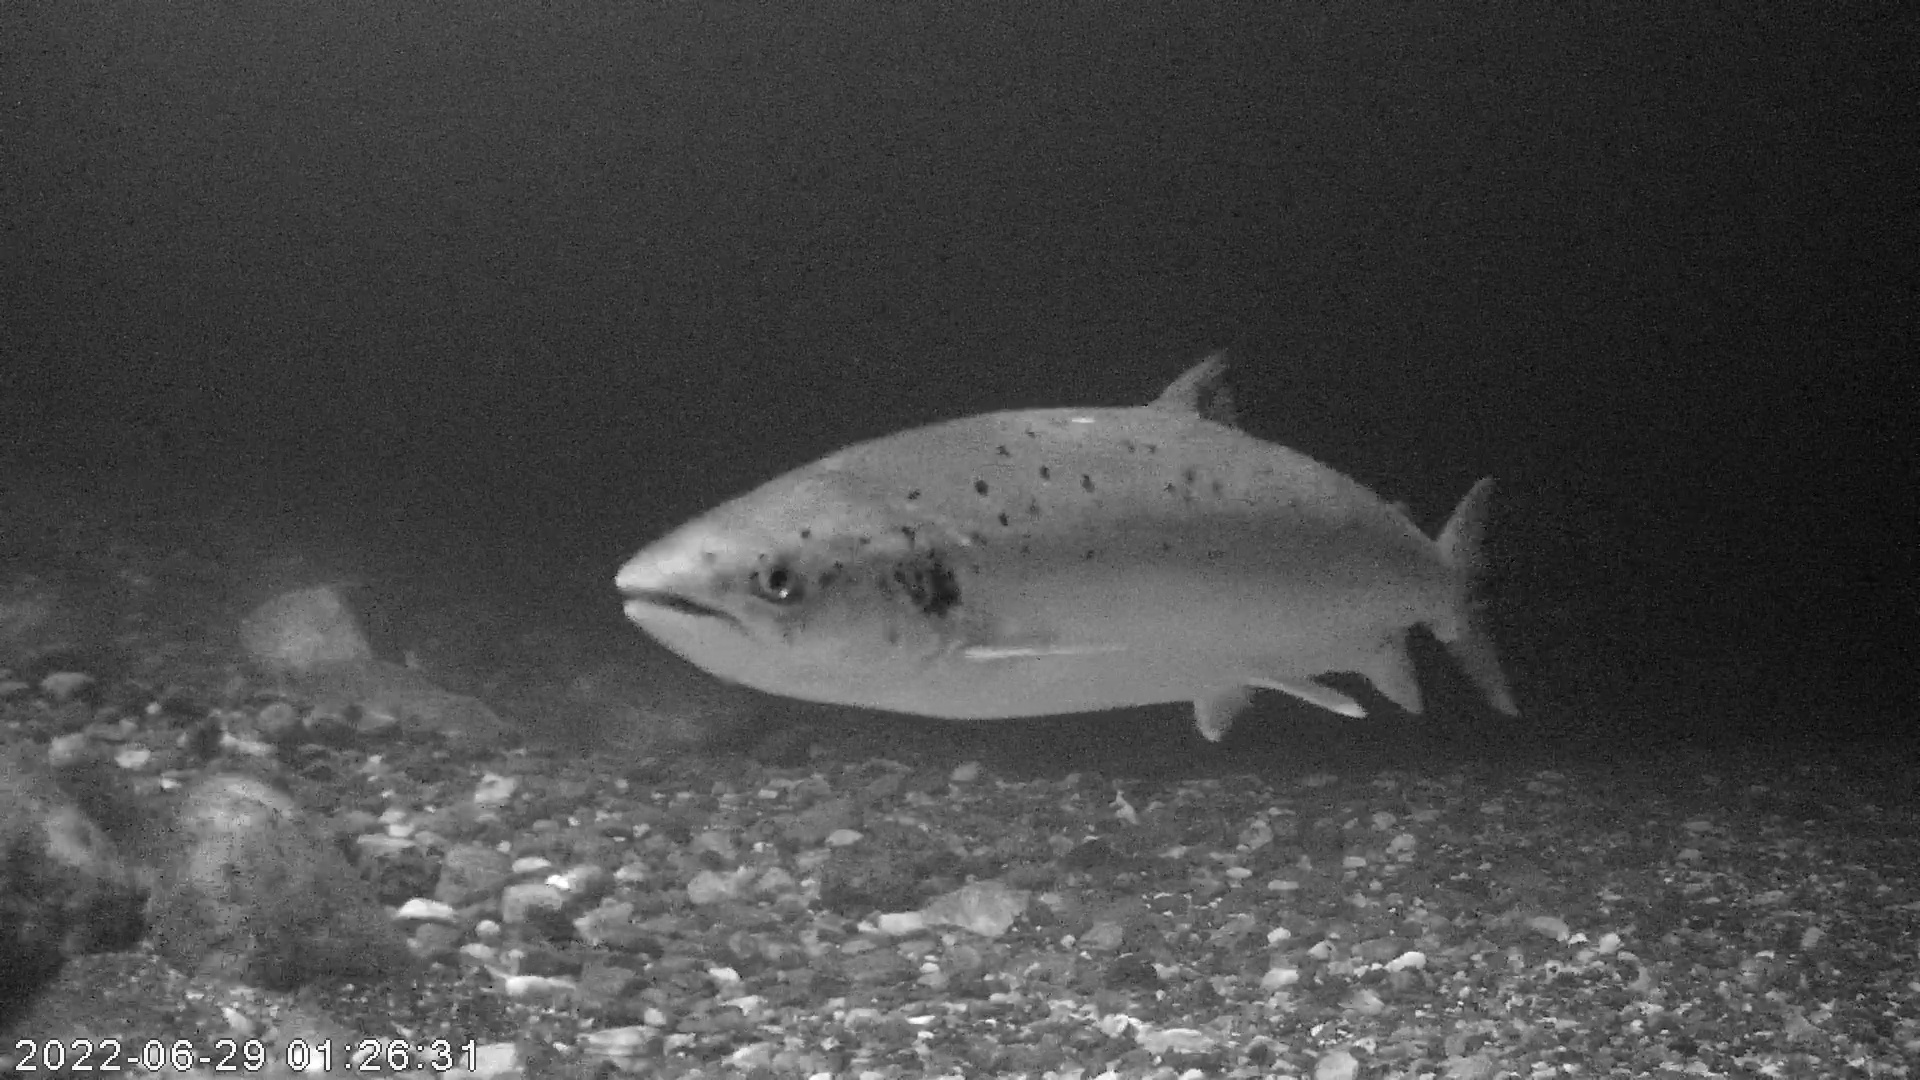salmon: (612, 342, 1523, 749)
